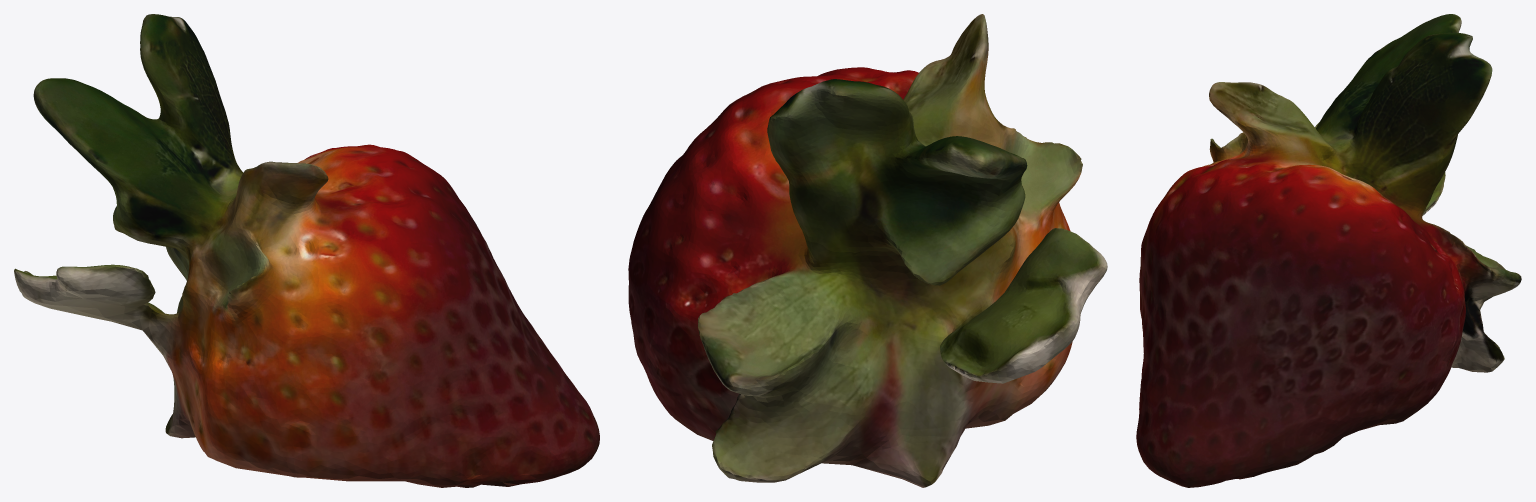
3 renders of one model, left to right at view 1: azimuth 30°, elevation 25°; view 2: azimuth 150°, elevation 25°; view 3: azimuth 270°, elevation 25°, orthographic. The views are drawn at different scales.
Size of the model in its own units: 0.0569 by 0.0467 by 0.048.
Materials: 1 (1 with a texture image).
